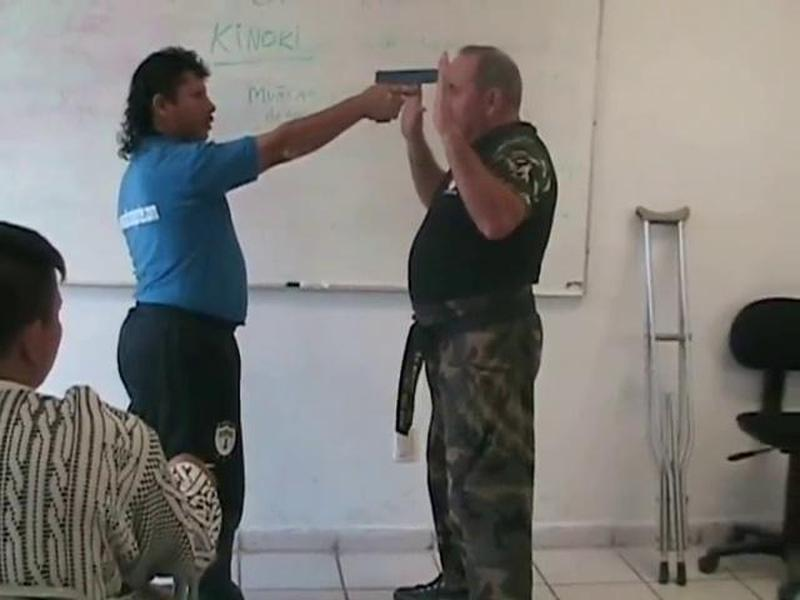Pistola: (371, 62, 445, 96)
